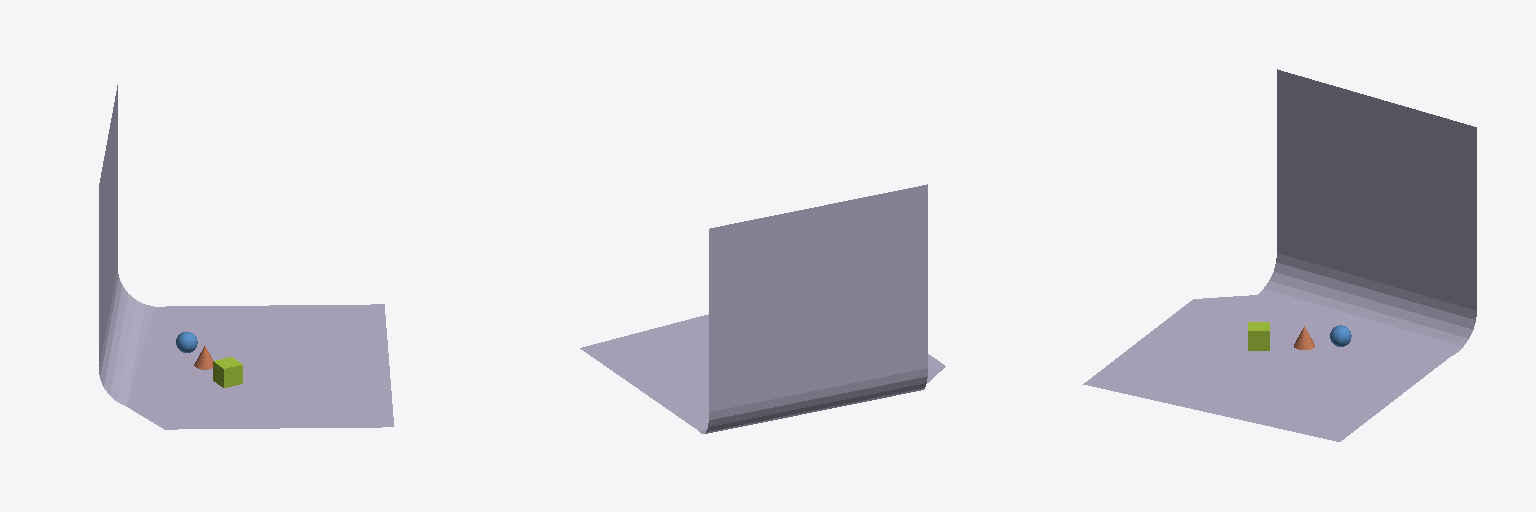
The model's file is abstract_shapes.obj.
3 views of the same model, side by side, from view 1: azimuth 30°, elevation 25°; view 2: azimuth 150°, elevation 25°; view 3: azimuth 270°, elevation 25° (orthographic).
Parts seen in each view (by area): view 1: Plane, Cube; view 2: Plane; view 3: Plane, Cube.
Boxes of the visible parts, x1=… form: Plane: x1=99, y1=85, x2=393, y2=429; Cube: x1=213, y1=357, x2=242, y2=387; Plane: x1=580, y1=184, x2=945, y2=433; Plane: x1=1083, y1=69, x2=1476, y2=441; Cube: x1=1248, y1=322, x2=1269, y2=350.
Bounding box in the file's own units: 33.77 × 22.23 × 36.33.